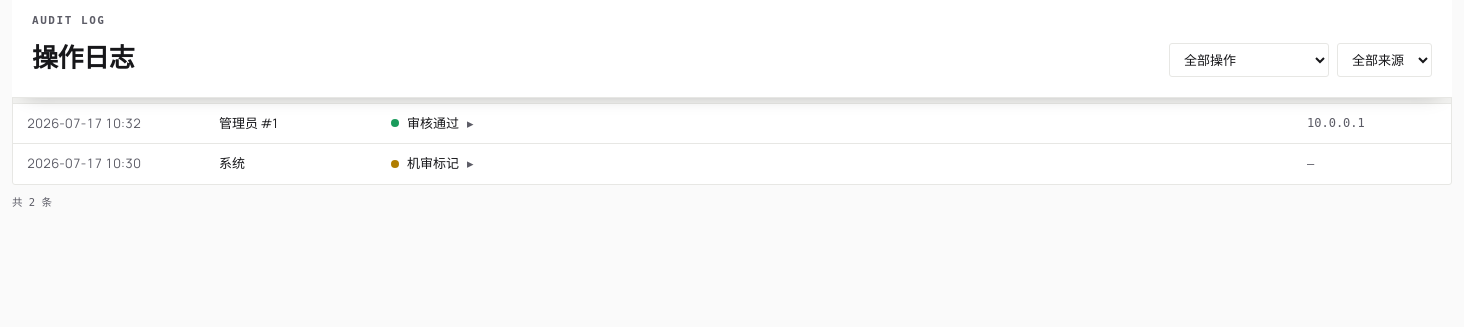
Test case: 点行内展开 detail 原文(格式化 JSON)
Click the button "2026-07-17 10:32 管理员 #1 审核通过 ▸ 10.0.0.1": (84, 122) x1=13 y1=104 x2=1451 y2=143
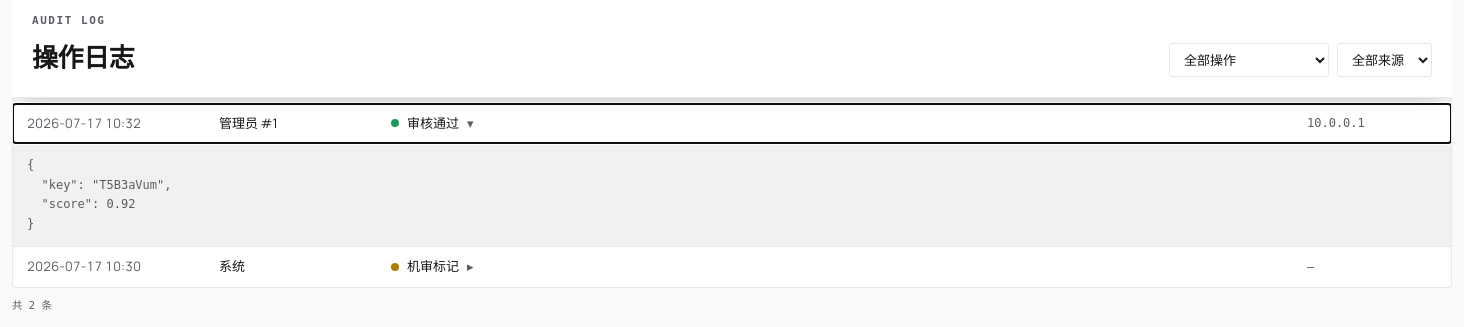
Check: the text "{ \"key\": \"T5B3aVum\", \"score\": 0.92 }" is shown, box x1=13 y1=143 x2=1451 y2=246
